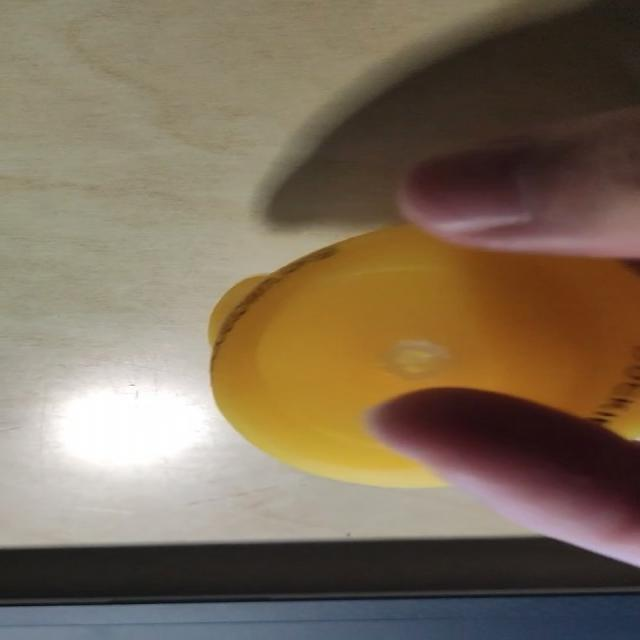rubber-duck: (209, 224, 638, 485)
